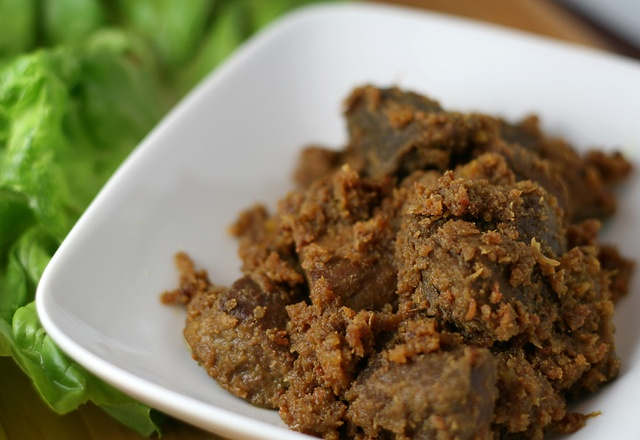rendang: (216, 73, 630, 437)
